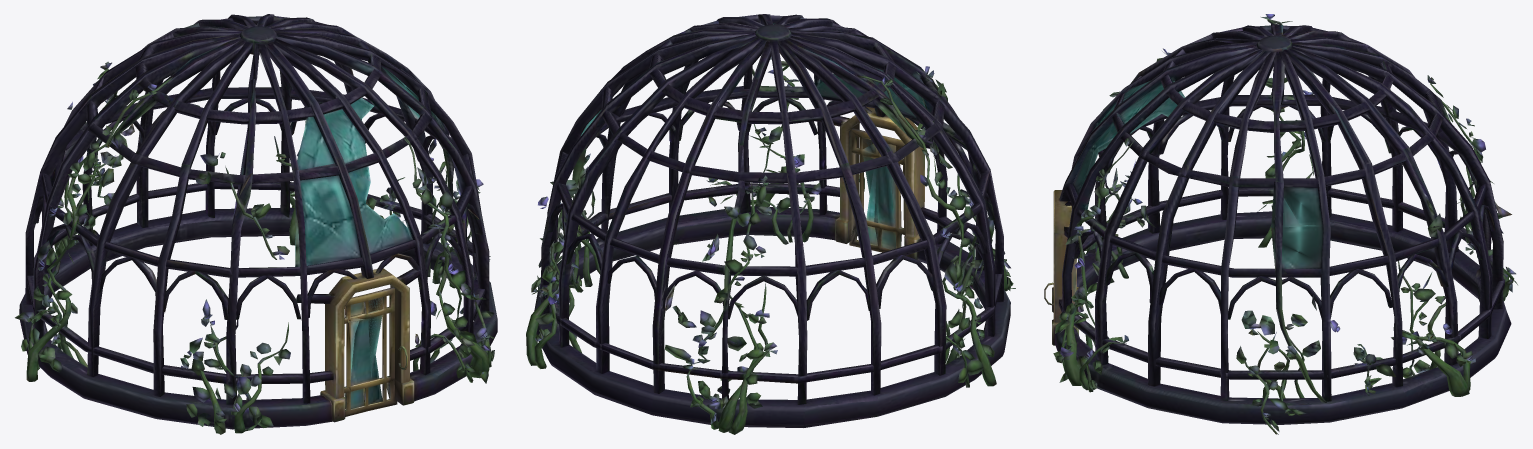
File: p_glasshouse.glb
The picture shows the model from 3 angles, left to right: view 1: azimuth 30°, elevation 25°; view 2: azimuth 150°, elevation 25°; view 3: azimuth 270°, elevation 25°; orthographic projection. The views are drawn at different scales.
Visible parts, largest first — view 1: Mesh_0; view 2: Mesh_0; view 3: Mesh_0.
Boxes of the visible parts, x1,y1,x2,y2 form: Mesh_0: (15, 14, 497, 434); Mesh_0: (526, 14, 1015, 434); Mesh_0: (1044, 14, 1517, 434).
Size of the model in its own units: 1.58 by 1 by 1.48.
1 material, 1 textured.
